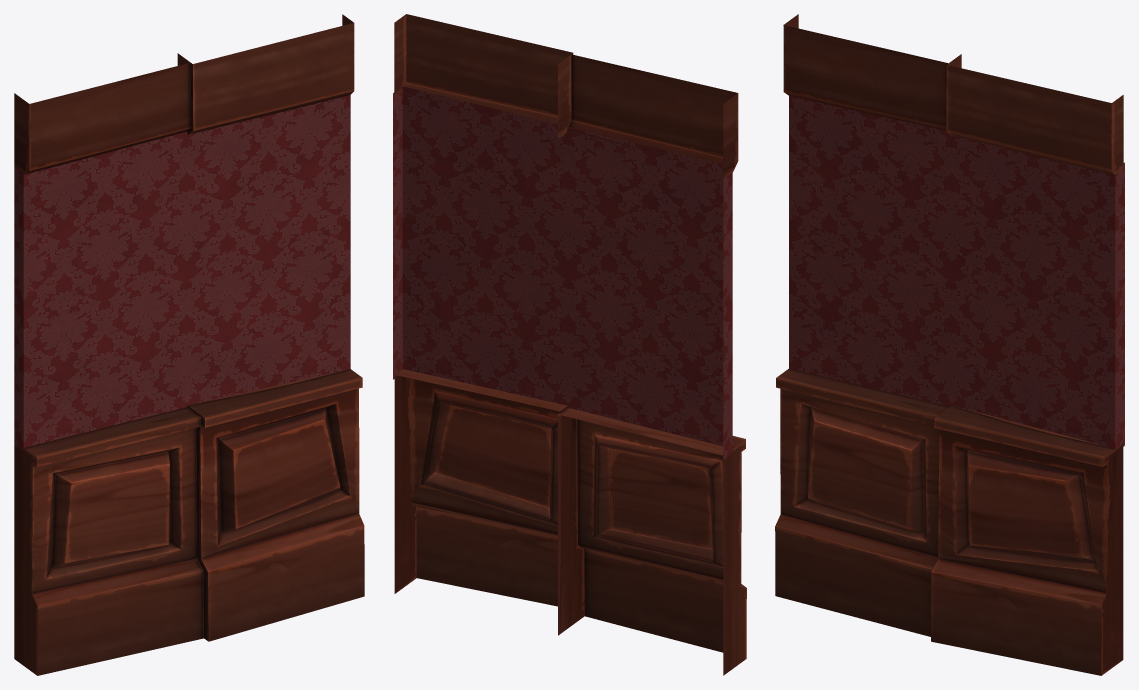
File: Wall_01.FBX
The picture shows the model from 3 angles, left to right: view 1: azimuth 30°, elevation 25°; view 2: azimuth 150°, elevation 25°; view 3: azimuth 330°, elevation 25°; orthographic projection.
Parts seen in each view (by area): view 1: Plane002; view 2: Plane002; view 3: Plane002.
Boxes of the visible parts, x1,y1,x2,y2 form: Plane002: (14, 14, 364, 675); Plane002: (393, 14, 746, 675); Plane002: (775, 14, 1124, 675).
Bounding box in the file's own units: 78.74 × 130 × 12.9.
